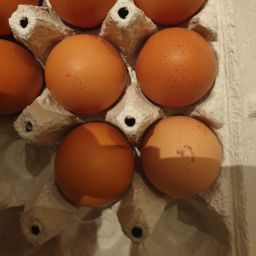Eggs: (49, 120, 130, 221), (141, 110, 232, 191), (138, 26, 228, 103), (40, 31, 118, 108), (1, 38, 47, 110), (49, 1, 117, 32), (134, 2, 214, 26)
